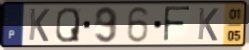6: (125, 5, 151, 44)
9: (93, 6, 119, 44)
F: (162, 5, 192, 44)
K: (196, 6, 220, 43), (28, 7, 52, 43)
Q: (54, 6, 81, 44)
